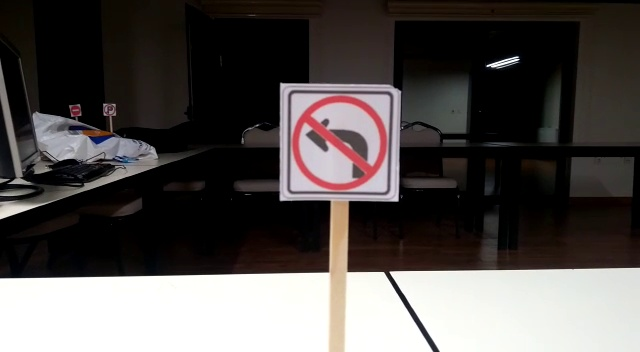sola_donulmez: (291, 92, 393, 193)
